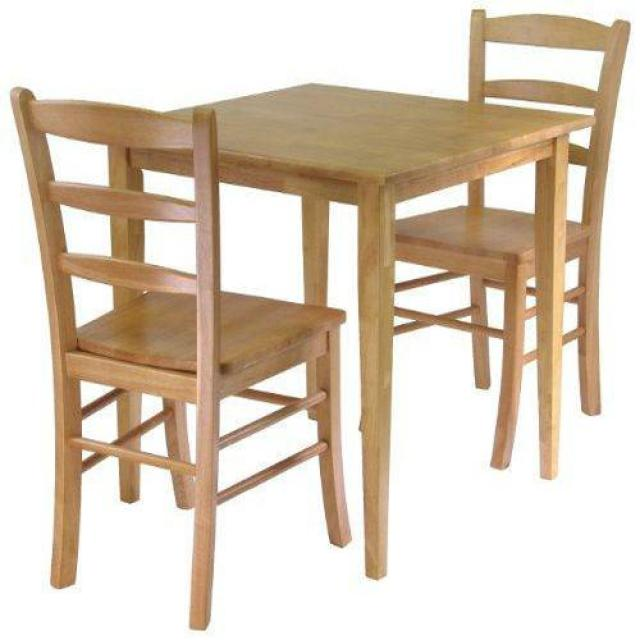table: (215, 86, 593, 581)
